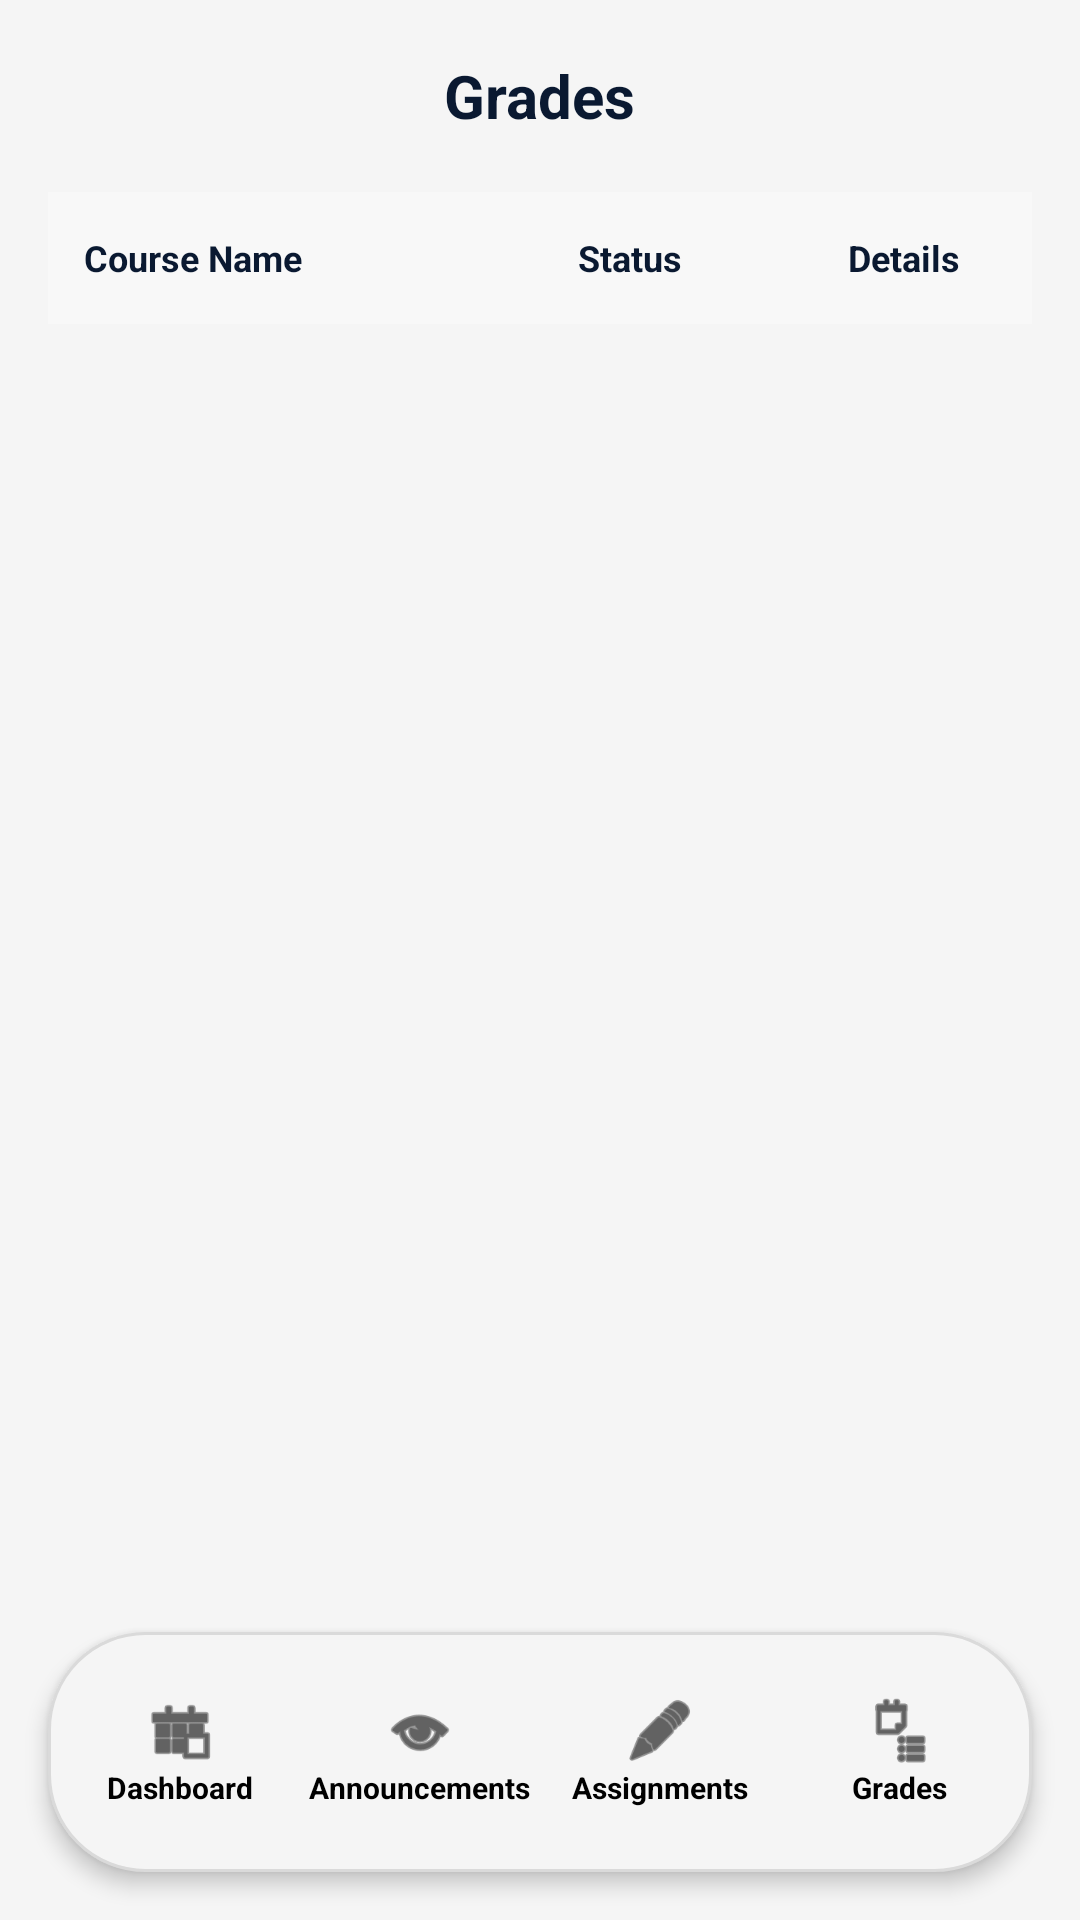

Icons on this 1080w x 1920h Android screen, each with the point to tap as (x=x, y=y):
agenda: (x=900, y=1731)
edit: (x=659, y=1730)
today: (x=180, y=1732)
view: (x=420, y=1732)
